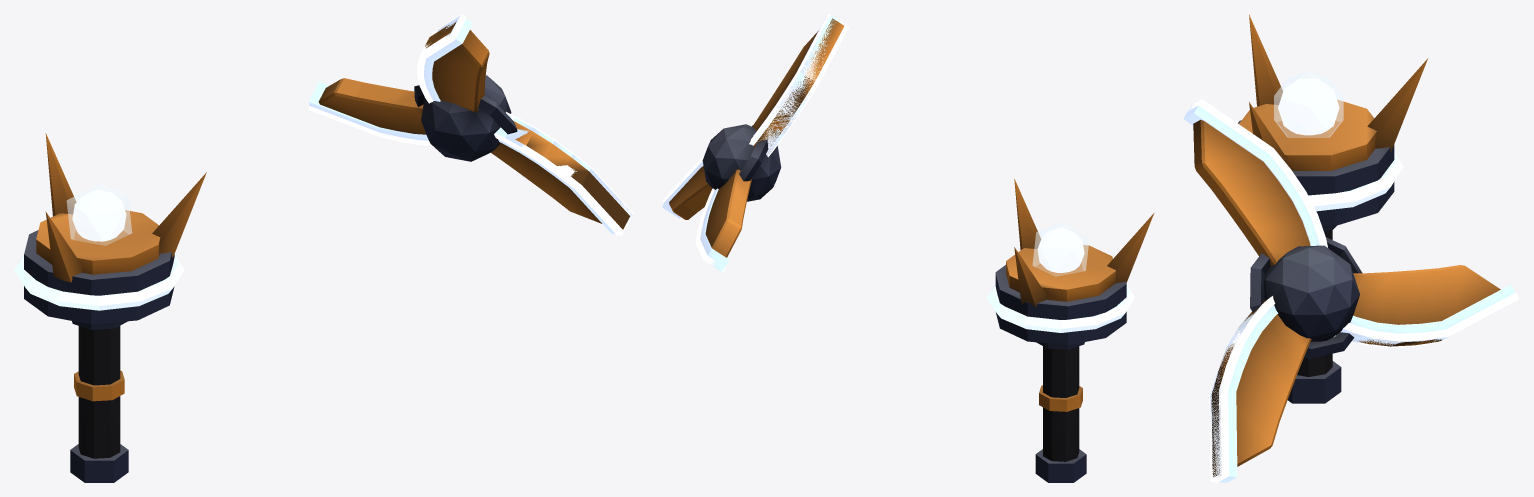
The model's file is Guardian.glb.
The picture shows the model from 3 angles, left to right: view 1: azimuth 30°, elevation 25°; view 2: azimuth 150°, elevation 25°; view 3: azimuth 270°, elevation 25°; orthographic projection. The views are drawn at different scales.
Visible parts, largest first — view 1: Body, Orb, Orb_Glow, Halo_Glow, Accent_Glow; view 2: Body, Orb, Orb_Glow, Halo_Glow, Accent_Glow; view 3: Orb, Body, Orb_Glow, Halo_Glow, Accent_Glow.
Boxes of the visible parts, x1=… form: Body: x1=24, y1=133, x2=206, y2=482; Orb: x1=318, y1=21, x2=630, y2=229; Orb_Glow: x1=308, y1=14, x2=633, y2=235; Halo_Glow: x1=14, y1=183, x2=184, y2=310; Accent_Glow: x1=72, y1=189, x2=126, y2=241; Body: x1=995, y1=179, x2=1154, y2=482; Orb: x1=669, y1=18, x2=844, y2=257; Orb_Glow: x1=662, y1=14, x2=848, y2=272; Halo_Glow: x1=987, y1=222, x2=1134, y2=332; Accent_Glow: x1=1037, y1=227, x2=1084, y2=272; Orb: x1=1193, y1=119, x2=1500, y2=476; Body: x1=1238, y1=14, x2=1427, y2=403; Orb_Glow: x1=1183, y1=99, x2=1519, y2=482; Halo_Glow: x1=1274, y1=71, x2=1403, y2=211; Accent_Glow: x1=1278, y1=78, x2=1339, y2=135.
Size of the model in its own units: 4.32 by 2.99 by 1.96.
